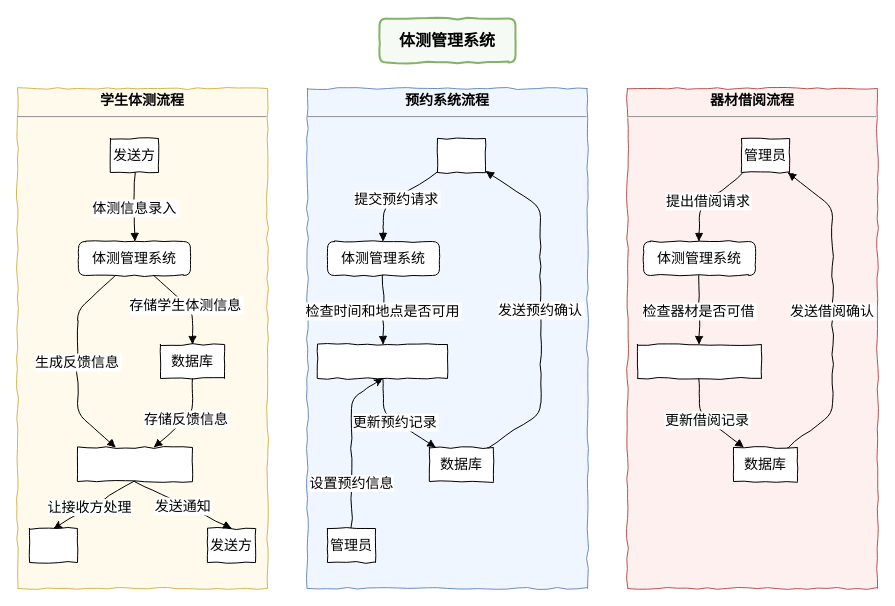
This 895x606 diagram has some shape labels left out. Each missing label, with the centre of its shape:
"Equipment模块" goes at [699,361].
"Feedback模块" goes at [134,464].
"Reservation模块" goes at [382,361].
"学生" goes at [461,155].
"接收方" goes at [53,545].
